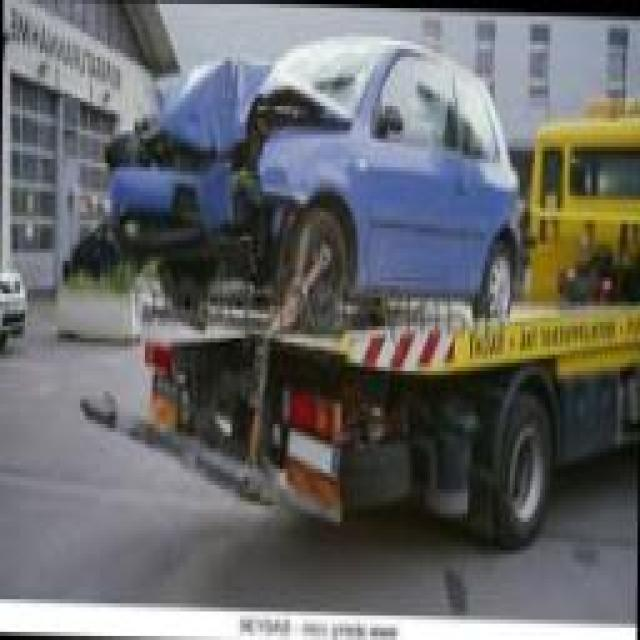Bonnet: (114, 46, 353, 170)
Bumper: (88, 203, 300, 282)
